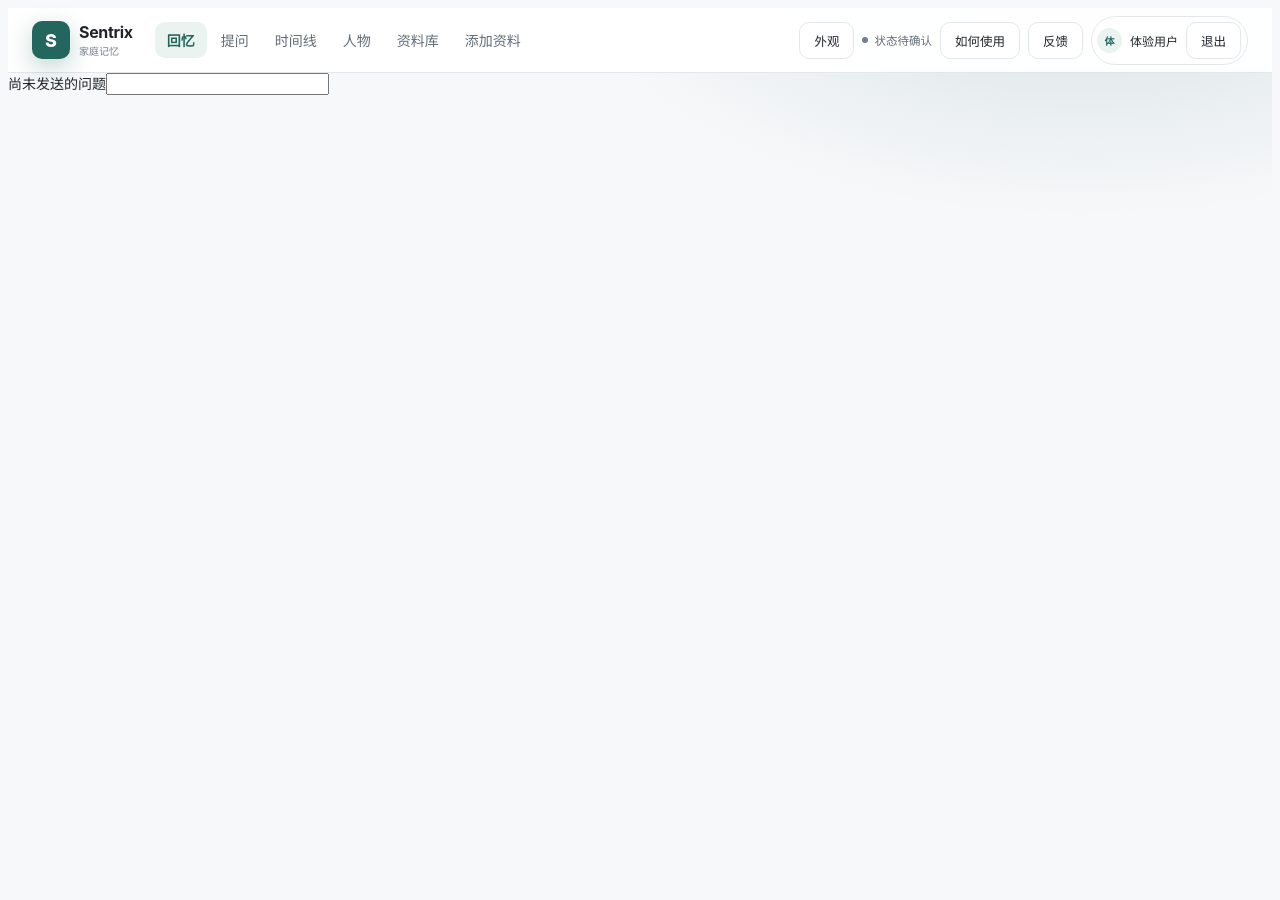
it: 三套外观与原页面状态 › 从外观面板进入体验建议，切换风格本身不提交反馈
Step 1. Click the button "外观" → coordinates (827, 40), box [799,22,854,58]
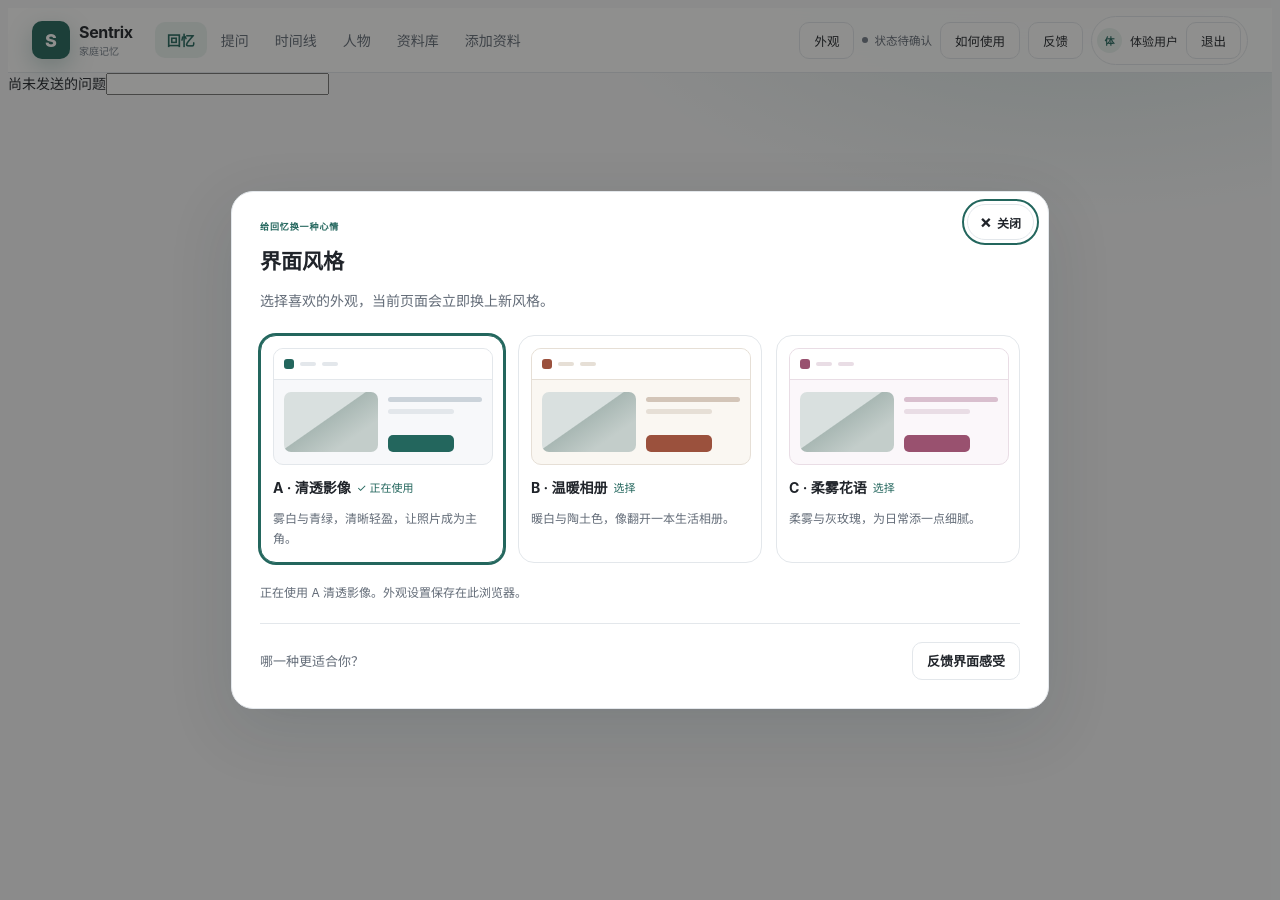
Step 2. Click the button "C · 柔雾花语 选择 柔雾与灰玫瑰，为日常添一点细腻。" → coordinates (898, 449), box [776,335,1020,563]
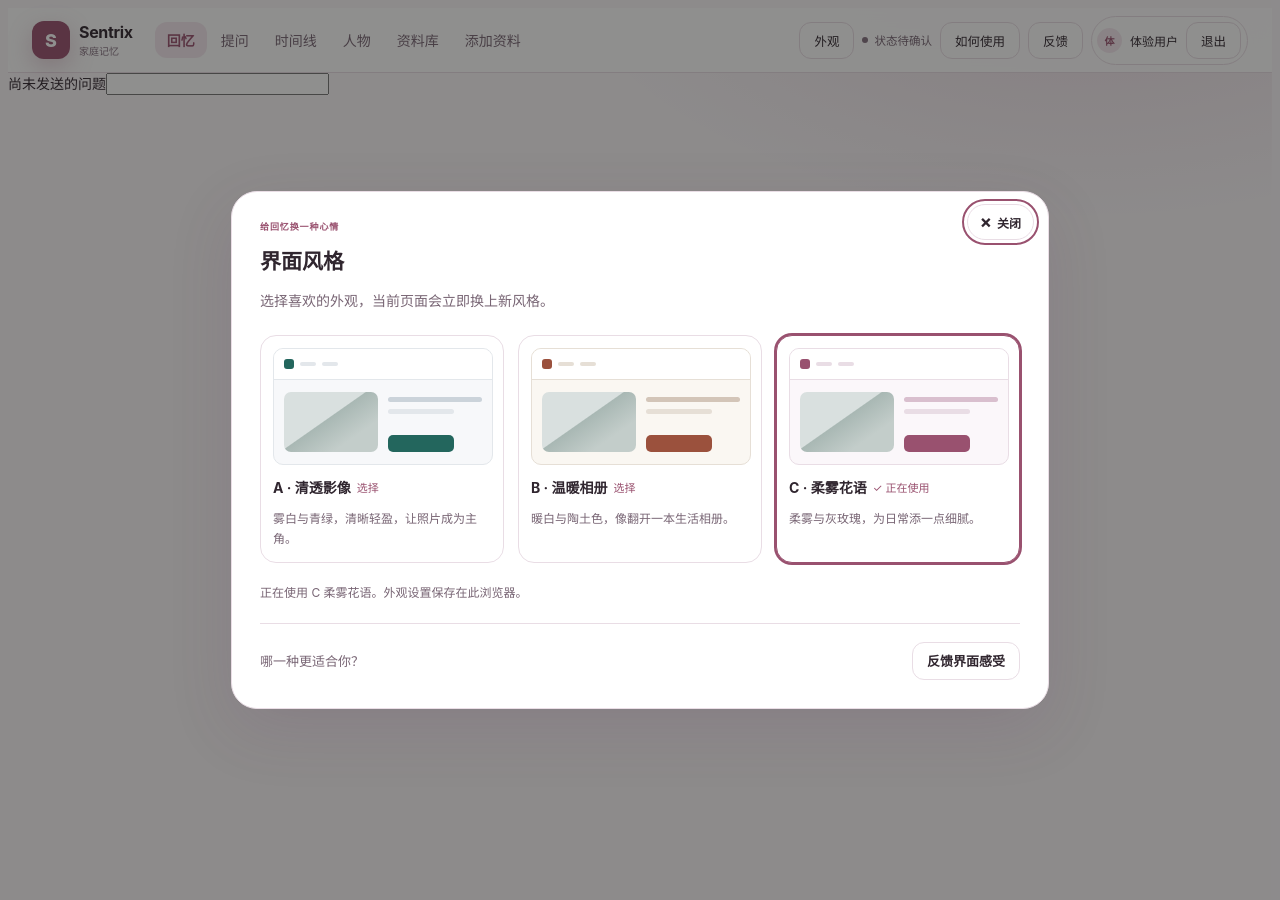
Step 3. Click the button "反馈界面感受" → coordinates (966, 661), box [912,642,1020,680]
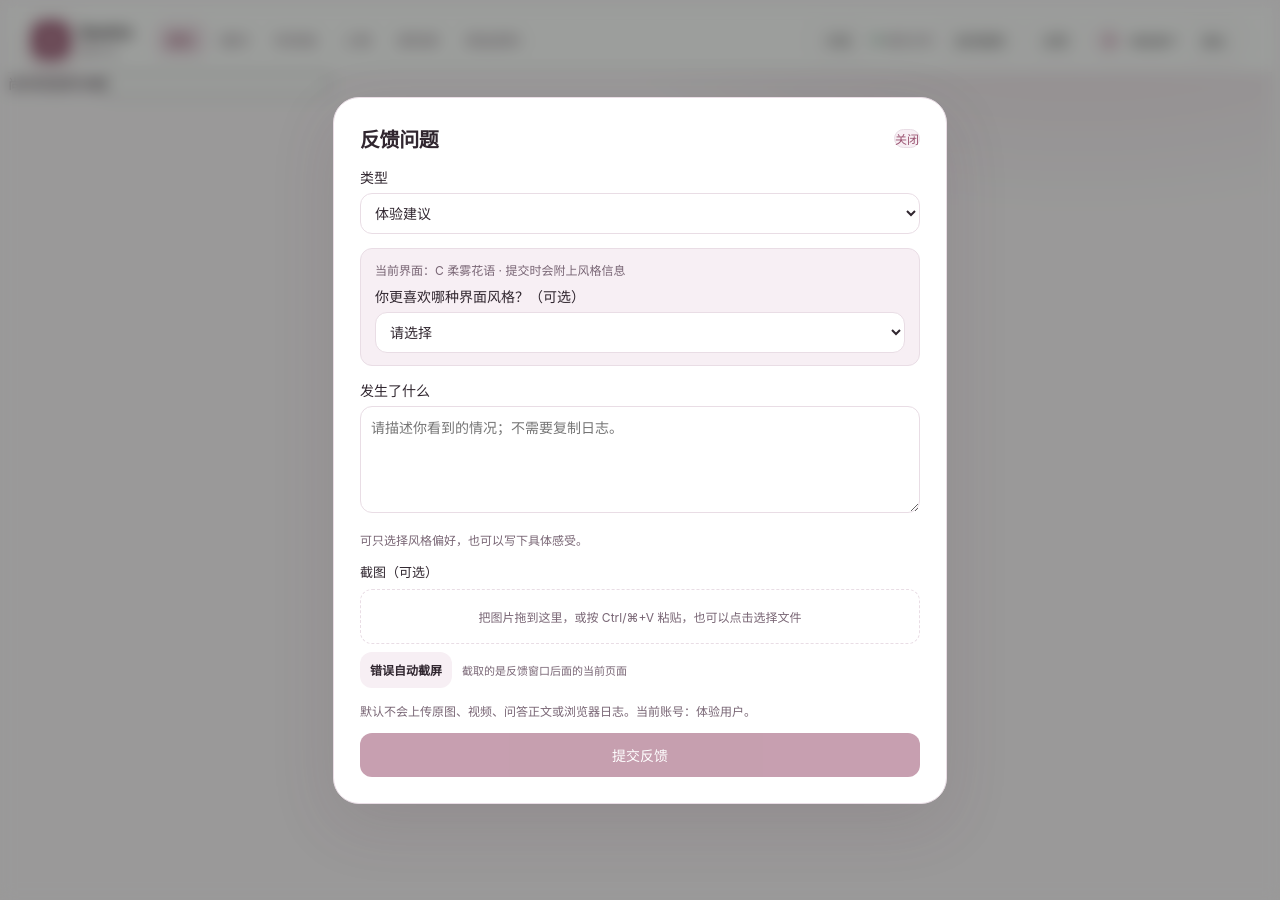
Check: the dropdown labelled "类型" shows "体验建议", box [360,192,920,234]
Check: the dropdown labelled "你更喜欢哪种界面风格？（可选）" shows "请选择", box [375,312,905,352]
Check: the text "当前界面：C 柔雾花语 · 提交时会附上风格信息" is shown, box [375,262,625,278]
